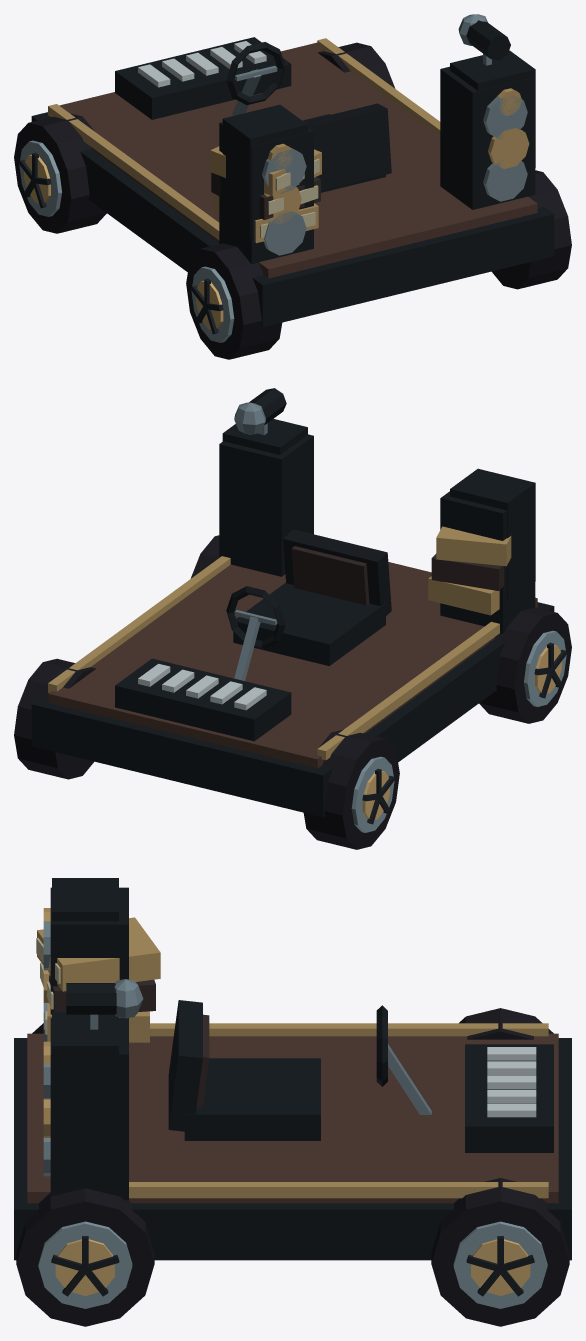
File: kart.glb
3 renders of one model, top to bottom at view 1: azimuth 30°, elevation 25°; view 2: azimuth 150°, elevation 25°; view 3: azimuth 270°, elevation 25°, orthographic. The views are drawn at different scales.
Parts seen in each view (by area): view 1: identity-stage-stage-platform-and-pa-towers, identity-stage-motif-speakers, identity-stage-driver-cockpit, wheel-rear-left, wheel-front-left, wheel-rear-right, identity-stage-motif-books, identity-stage-motif-microphone, wheel-front-right; view 2: identity-stage-stage-platform-and-pa-towers, identity-stage-driver-cockpit, wheel-front-left, wheel-rear-left, identity-stage-motif-speakers, identity-stage-motif-books, wheel-front-right, identity-stage-motif-microphone; view 3: identity-stage-stage-platform-and-pa-towers, identity-stage-driver-cockpit, wheel-front-right, wheel-rear-right, identity-stage-motif-speakers, identity-stage-motif-books, identity-stage-motif-microphone, wheel-front-left.
Part boxes in pixels (x1=…): identity-stage-stage-platform-and-pa-towers: x1=31, y1=37, x2=554, y2=327; identity-stage-motif-speakers: x1=222, y1=50, x2=535, y2=237; identity-stage-driver-cockpit: x1=226, y1=42, x2=391, y2=192; wheel-rear-left: x1=186, y1=243, x2=282, y2=359; wheel-front-left: x1=14, y1=113, x2=106, y2=233; wheel-rear-right: x1=491, y1=170, x2=571, y2=289; identity-stage-motif-books: x1=210, y1=146, x2=321, y2=243; identity-stage-motif-microphone: x1=458, y1=14, x2=510, y2=65; wheel-front-right: x1=317, y1=42, x2=395, y2=88; identity-stage-stage-platform-and-pa-towers: x1=31, y1=434, x2=554, y2=817; identity-stage-driver-cockpit: x1=226, y1=529, x2=391, y2=680; wheel-front-left: x1=303, y1=729, x2=399, y2=849; wheel-rear-left: x1=479, y1=607, x2=571, y2=723; identity-stage-motif-speakers: x1=222, y1=419, x2=535, y2=601; identity-stage-motif-books: x1=428, y1=526, x2=511, y2=615; wheel-front-right: x1=14, y1=658, x2=95, y2=779; identity-stage-motif-microphone: x1=234, y1=388, x2=286, y2=435; identity-stage-stage-platform-and-pa-towers: x1=14, y1=887, x2=571, y2=1260; identity-stage-driver-cockpit: x1=168, y1=1000, x2=431, y2=1140; wheel-front-right: x1=431, y1=1178, x2=569, y2=1326; wheel-rear-right: x1=16, y1=1188, x2=154, y2=1326; identity-stage-motif-speakers: x1=43, y1=878, x2=118, y2=1165; identity-stage-motif-books: x1=36, y1=917, x2=160, y2=1042; identity-stage-motif-microphone: x1=66, y1=979, x2=143, y2=1029; wheel-front-left: x1=459, y1=1008, x2=553, y2=1039.
Size of the model in its own units: 2.16 by 1.57 by 2.5.
